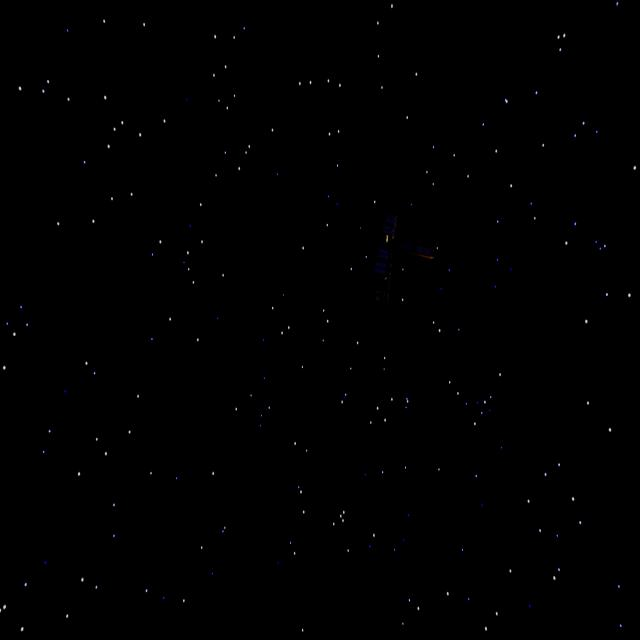medium_debris: (345, 210, 439, 310)
